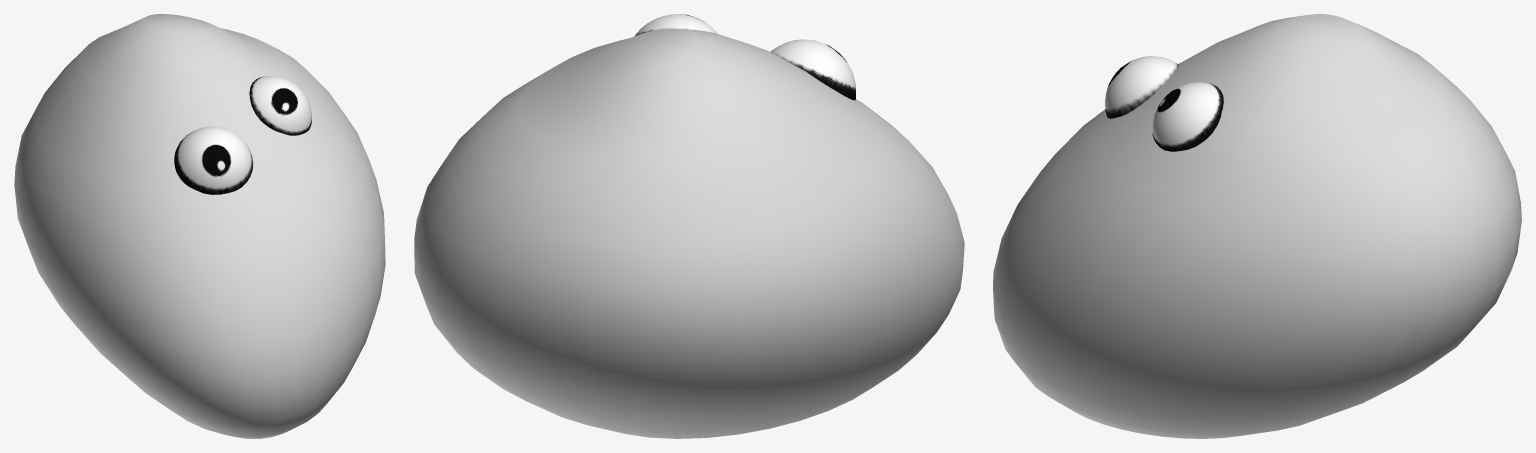
Rendered from Kartoffel.fbx.
3 views of the same model, side by side, from view 1: azimuth 30°, elevation 25°; view 2: azimuth 150°, elevation 25°; view 3: azimuth 270°, elevation 25° (orthographic). The views are drawn at different scales.
Parts seen in each view (by area): view 1: Sphere.006, Sphere.008, Sphere.007; view 2: Sphere.006, Sphere.008, Sphere.007; view 3: Sphere.006, Sphere.007, Sphere.008.
Part boxes in pixels (x1,y1,x2,y2): Sphere.006: [14, 14, 385, 438]; Sphere.008: [174, 126, 253, 194]; Sphere.007: [249, 76, 311, 135]; Sphere.006: [414, 28, 964, 438]; Sphere.008: [770, 39, 855, 100]; Sphere.007: [635, 14, 717, 35]; Sphere.006: [993, 14, 1521, 438]; Sphere.007: [1152, 82, 1223, 151]; Sphere.008: [1105, 56, 1178, 118].
Bounding box in the file's own units: 122 × 122 × 150.
